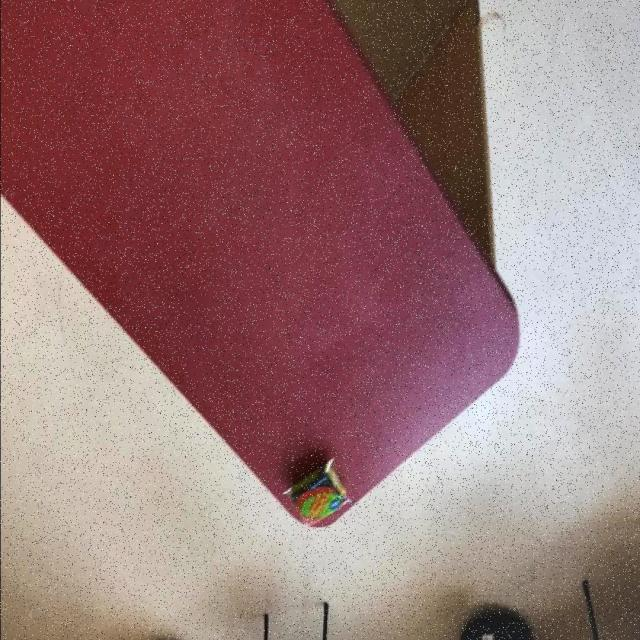Sponge: (0, 0, 522, 529), (282, 456, 349, 523)
